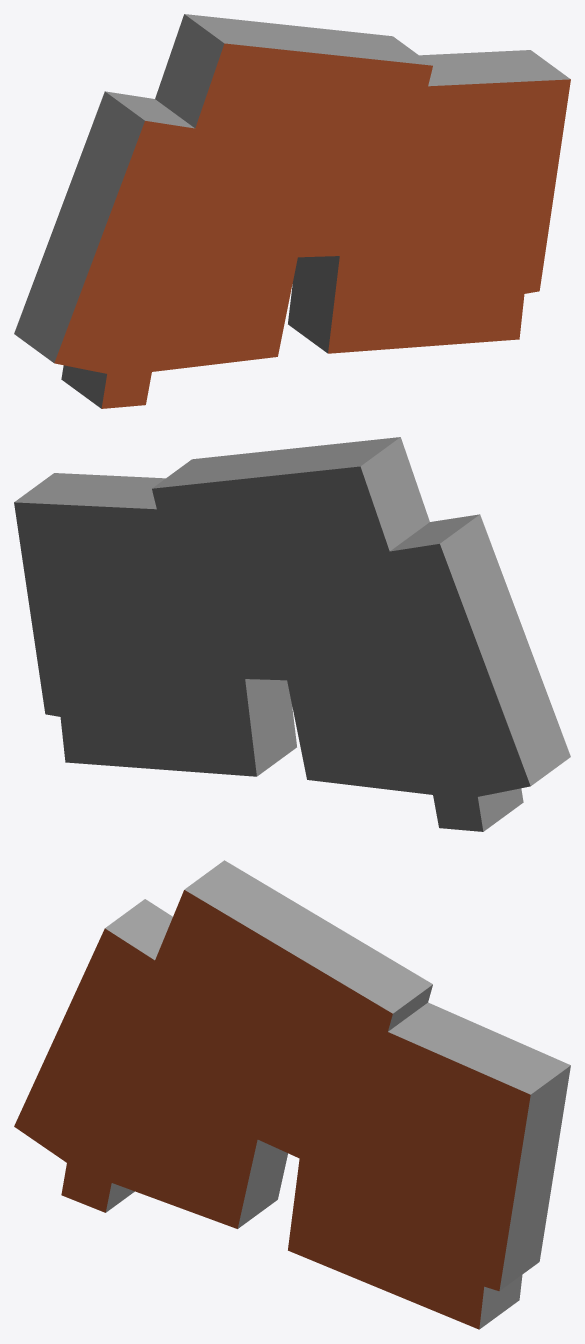
Rendered from construction_4503_assumed_A_Casa_h6m.obj.
The picture shows the model from 3 angles, top to bottom: view 1: azimuth 30°, elevation 25°; view 2: azimuth 150°, elevation 25°; view 3: azimuth 330°, elevation 25°; orthographic projection.
Visible parts, largest first — view 1: construction_4503_assumed_A_Casa; view 2: construction_4503_assumed_A_Casa; view 3: construction_4503_assumed_A_Casa.
Boxes of the visible parts, x1=… form: construction_4503_assumed_A_Casa: x1=14, y1=14, x2=570, y2=408; construction_4503_assumed_A_Casa: x1=14, y1=437, x2=570, y2=831; construction_4503_assumed_A_Casa: x1=14, y1=860, x2=570, y2=1329.
Bounding box in the file's own units: 44.48 × 30.27 × 6.
